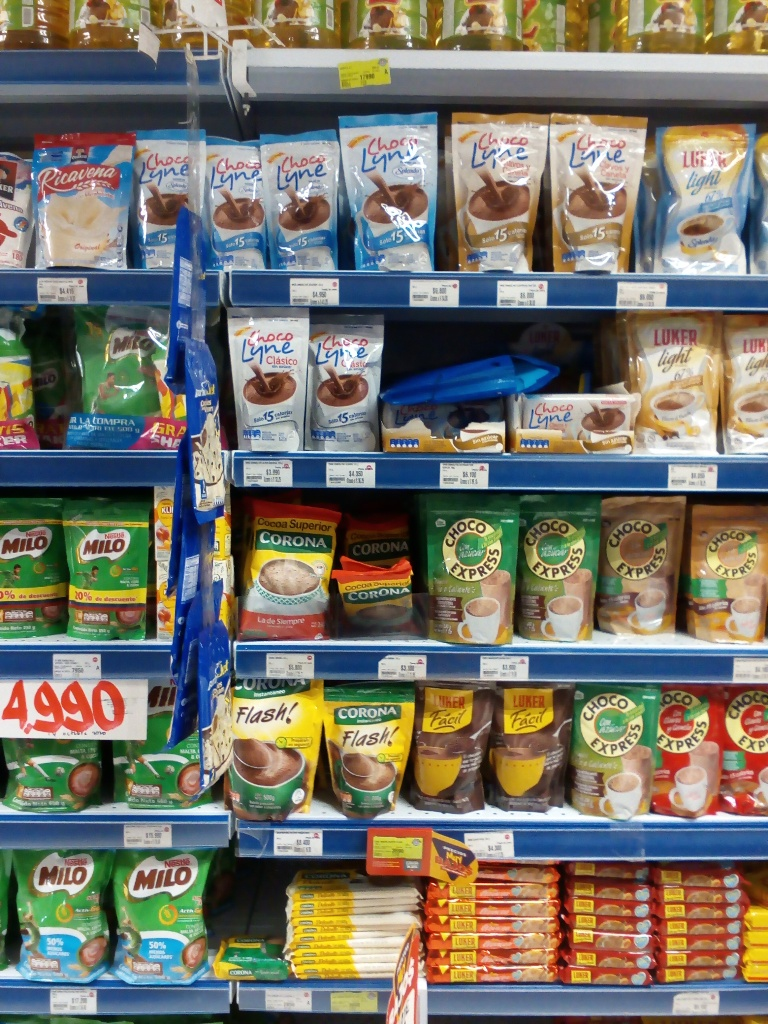COL0170203DYP50000: (114, 679, 213, 808)
COL0170205DYP50000: (116, 848, 213, 993)
